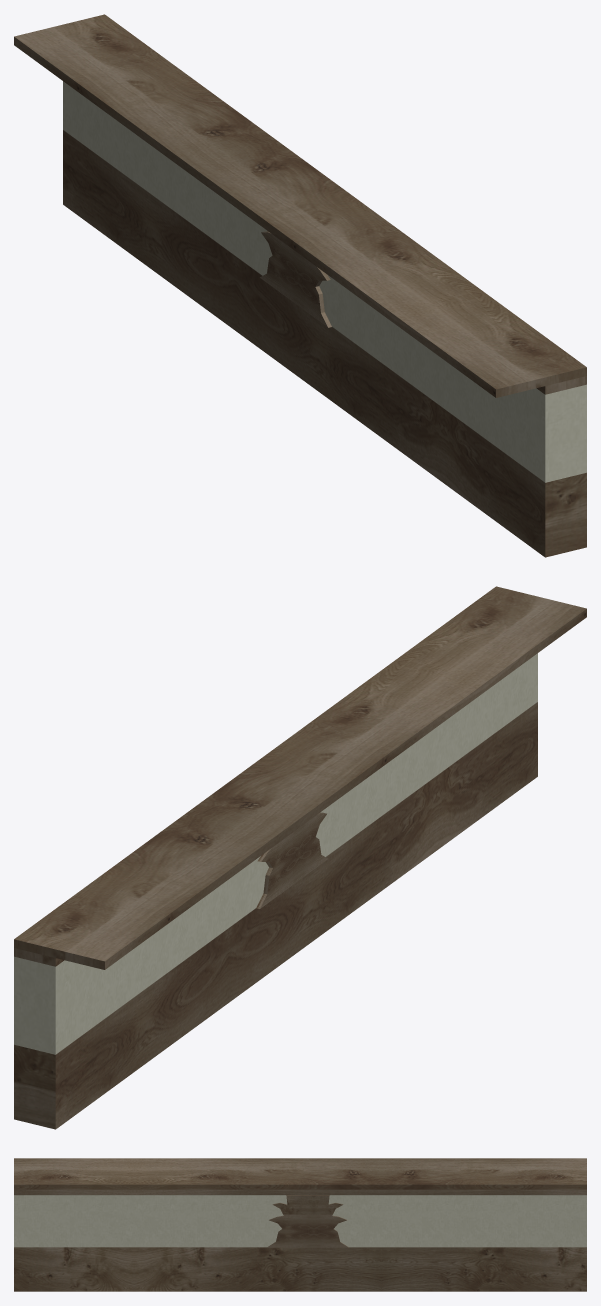
File: SM_Sun_Won_Jang_A.fbx
3 renders of one model, top to bottom at view 1: azimuth 30°, elevation 25°; view 2: azimuth 150°, elevation 25°; view 3: azimuth 270°, elevation 25°, orthographic. The views are drawn at different scales.
Parts seen in each view (by area): view 1: SM_Sun_Won_Jang_A; view 2: SM_Sun_Won_Jang_A; view 3: SM_Sun_Won_Jang_A.
Boxes of the visible parts, box(x1,y1,x2,y2) form: SM_Sun_Won_Jang_A: box(14, 14, 586, 557); SM_Sun_Won_Jang_A: box(14, 586, 586, 1129); SM_Sun_Won_Jang_A: box(14, 1158, 586, 1291).
Bounding box in the file's own units: 33.24 × 61.83 × 300.
